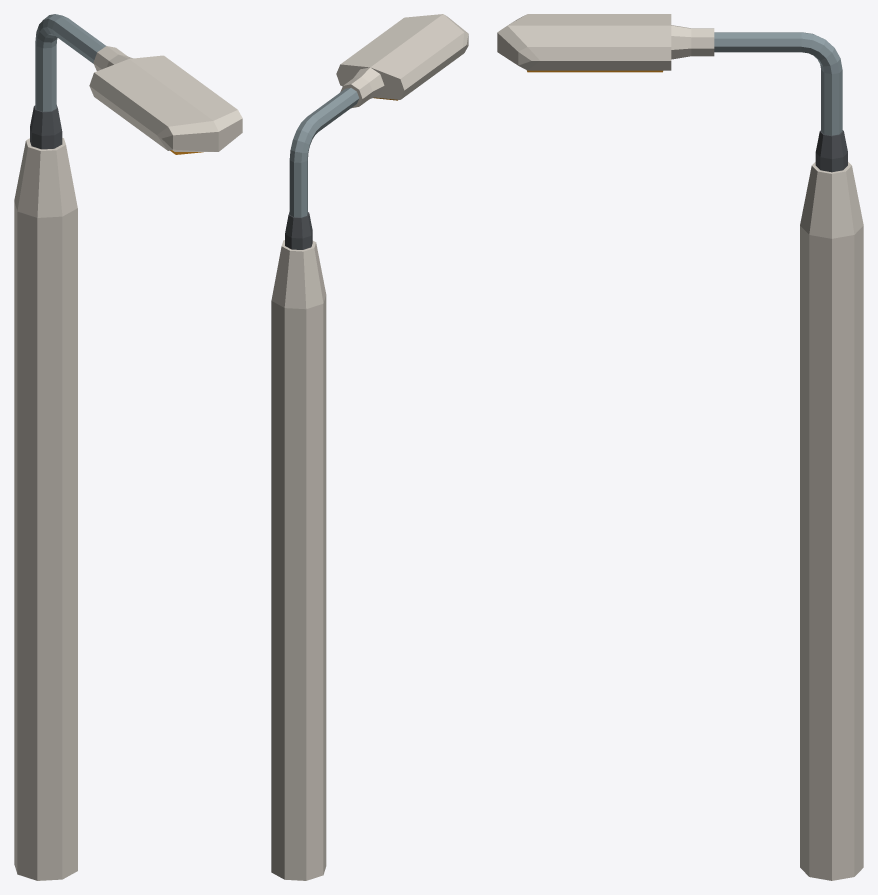
Rendered from SM_road_lantern_01.glb.
3 renders of one model, left to right at view 1: azimuth 30°, elevation 25°; view 2: azimuth 150°, elevation 25°; view 3: azimuth 270°, elevation 25°, orthographic. The views are drawn at different scales.
Parts seen in each view (by area): view 1: SM_road_lantern_01; view 2: SM_road_lantern_01; view 3: SM_road_lantern_01.
Boxes of the visible parts, x1,y1,x2,y2 form: SM_road_lantern_01: [14, 14, 242, 880]; SM_road_lantern_01: [271, 14, 468, 880]; SM_road_lantern_01: [497, 14, 863, 880].
Size of the model in its own units: 0.4566 by 4.8 by 1.89.
Materials: 1 (1 with a texture image).
